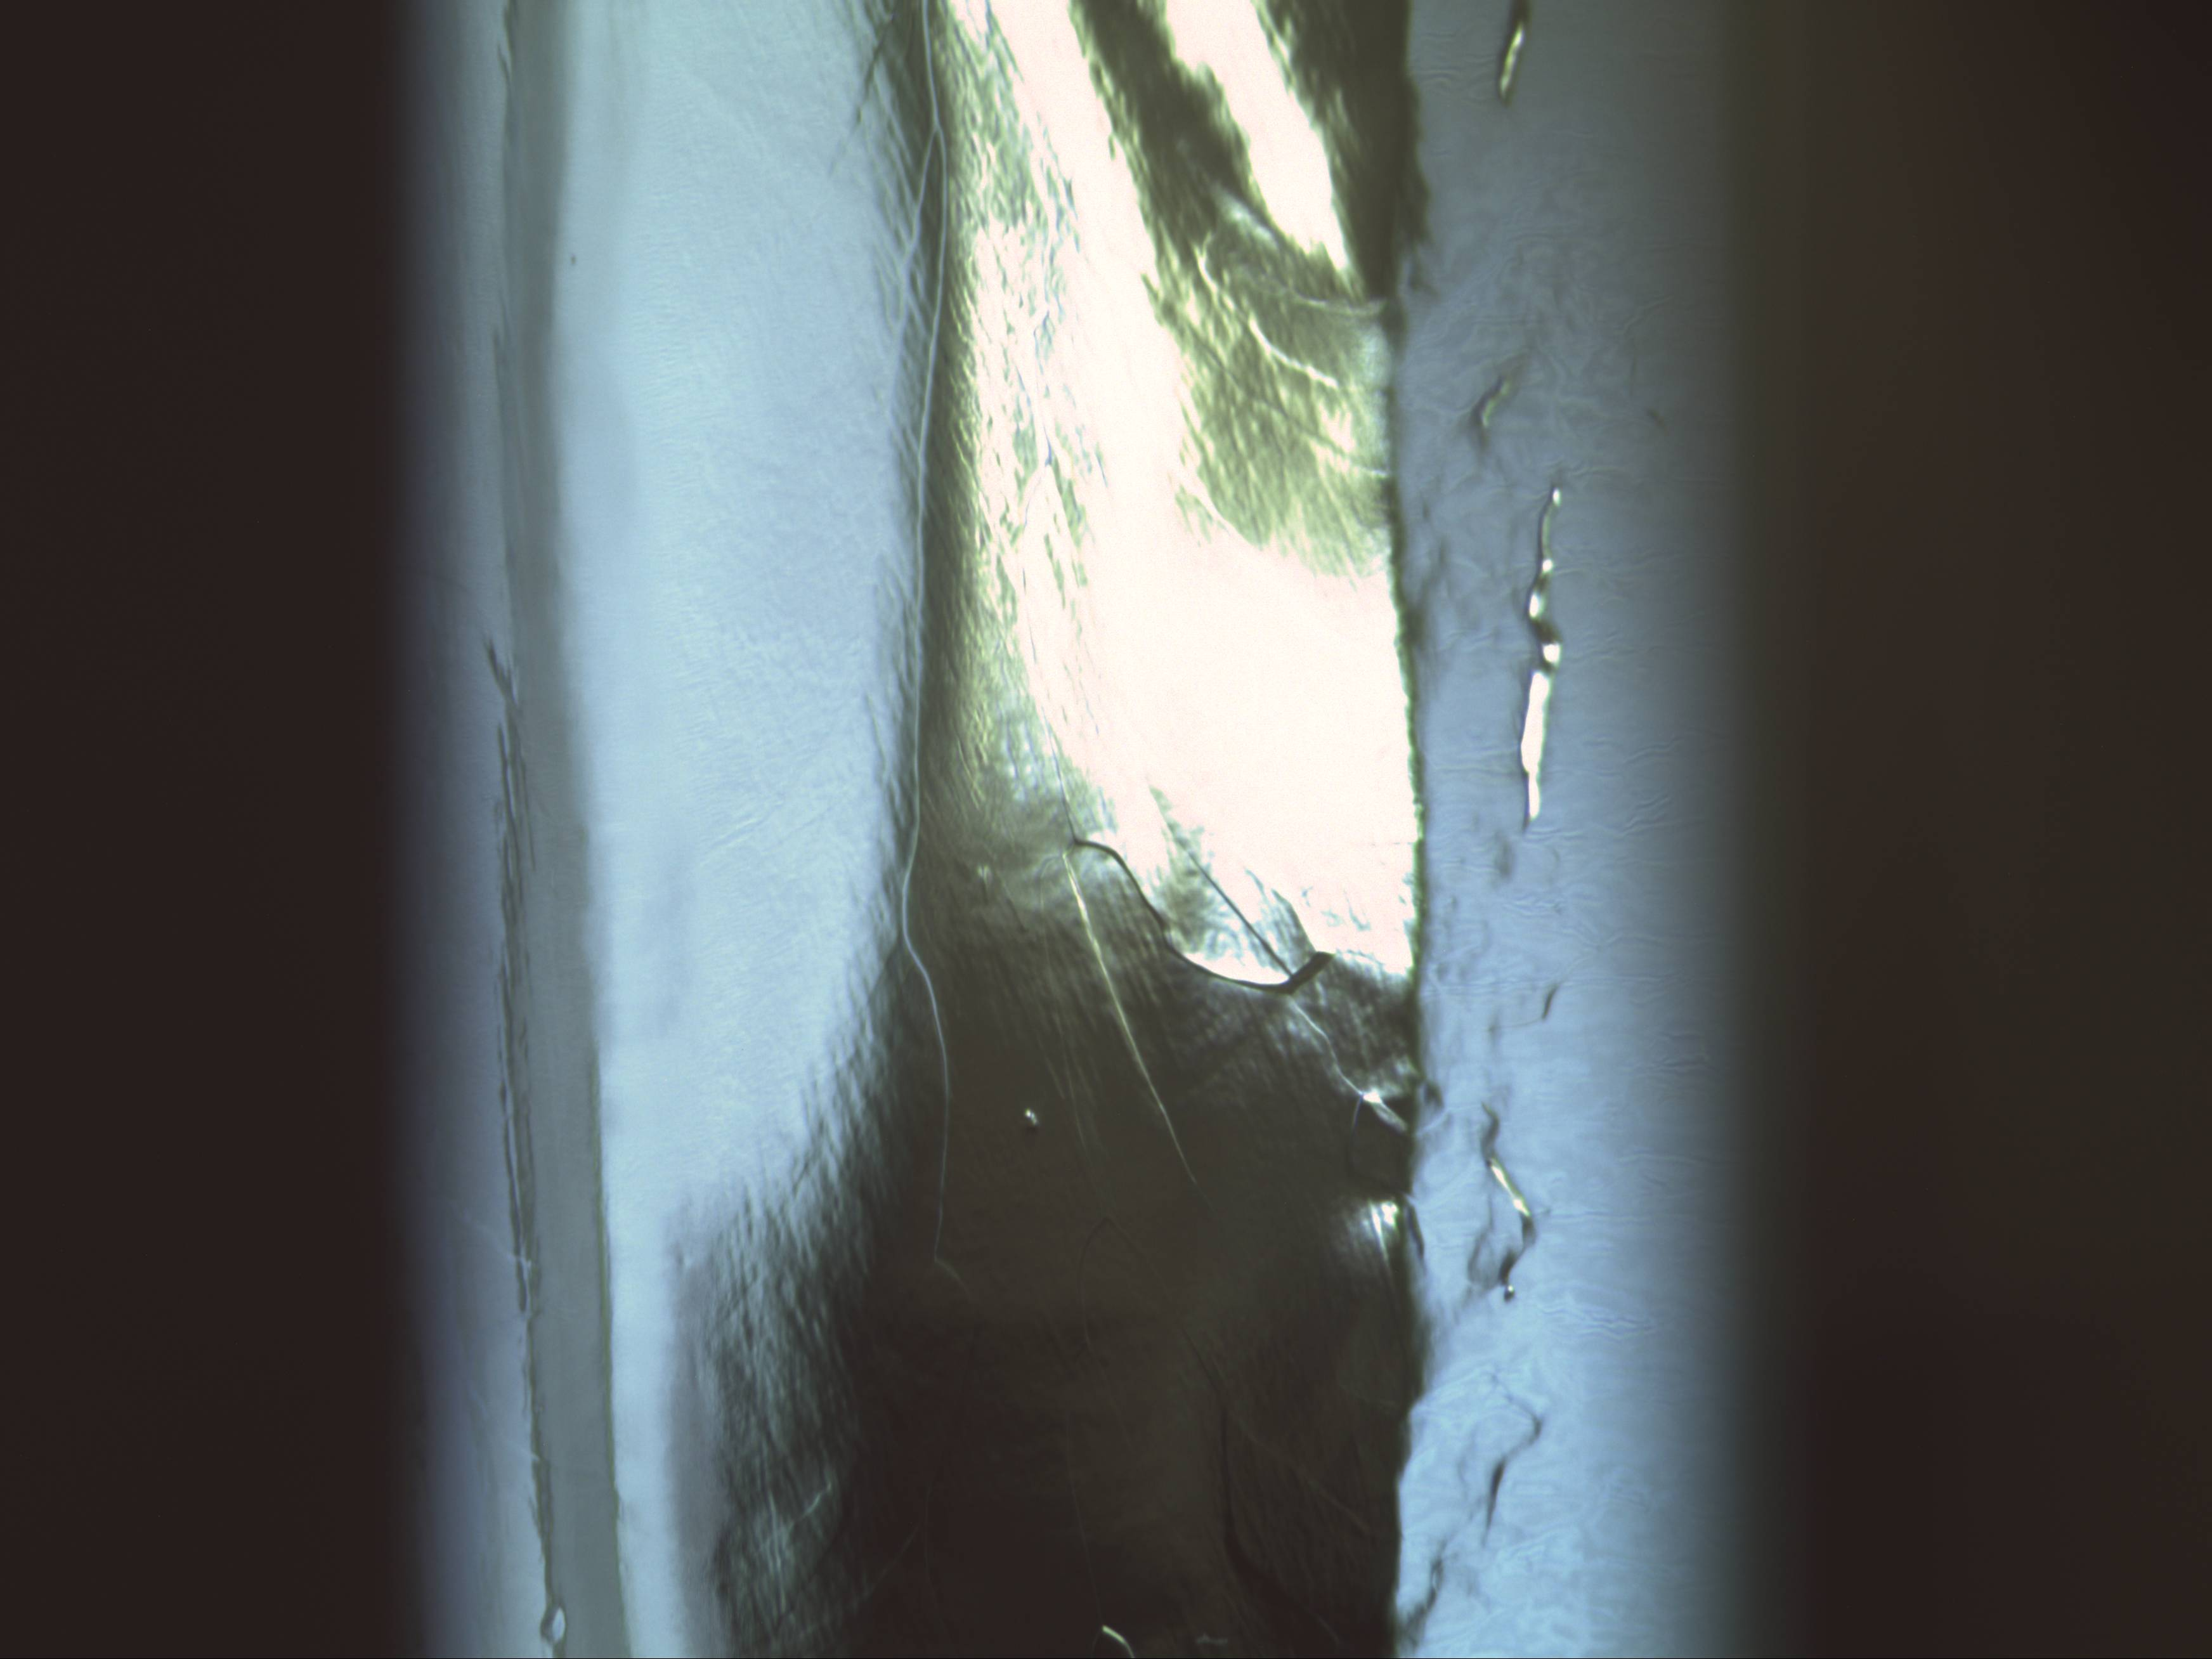defect: (1012, 1103, 1049, 1133)
